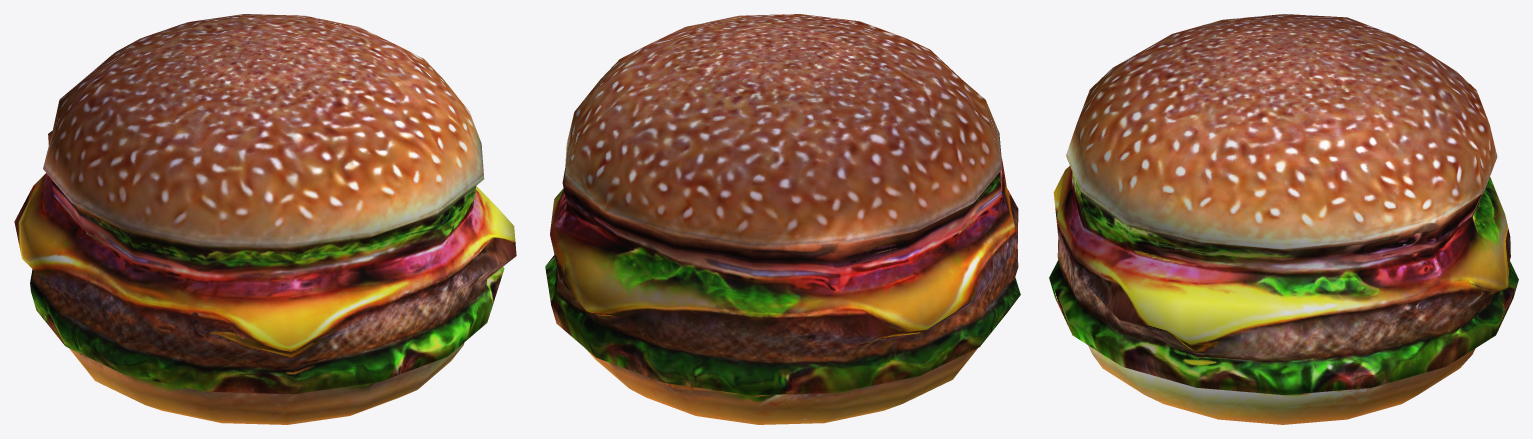
The model's file is hamburger__game_asset.glb.
The picture shows the model from 3 angles, left to right: view 1: azimuth 30°, elevation 25°; view 2: azimuth 150°, elevation 25°; view 3: azimuth 270°, elevation 25°; orthographic projection.
Visible parts, largest first — view 1: Cylinder; view 2: Cylinder; view 3: Cylinder.
Part boxes in pixels (box(x1,y1,x2,y2)): Cylinder: box(14, 14, 516, 424); Cylinder: box(545, 14, 1020, 424); Cylinder: box(1049, 14, 1518, 424).
Size of the model in its own units: 1.05 by 0.7856 by 1.04.
Materials: 1 (1 with a texture image).
